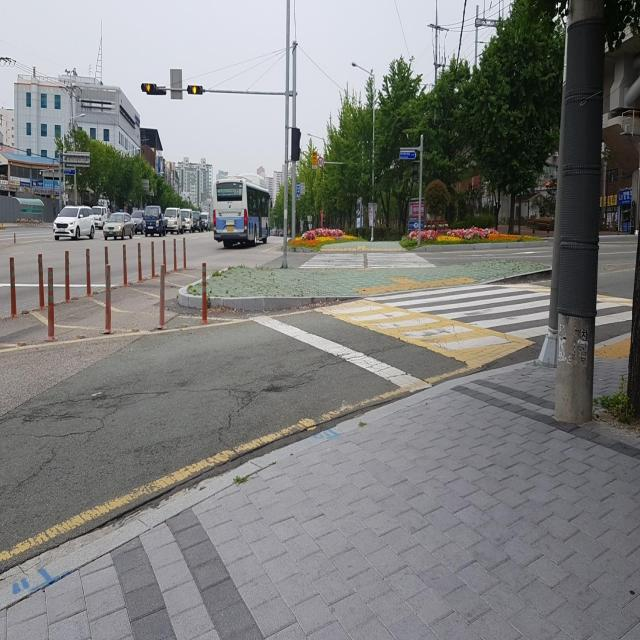횡단보도: (364, 283, 634, 340), (296, 248, 437, 271)
